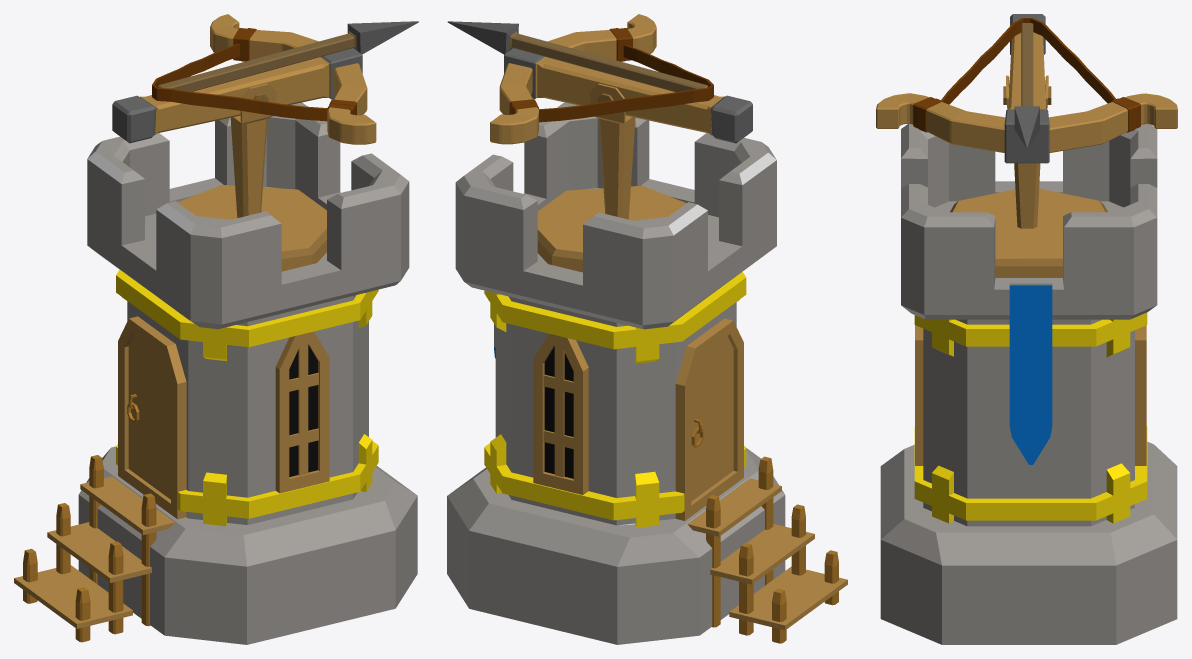
File: TowerAtest.fbx
The picture shows the model from 3 angles, left to right: view 1: azimuth 30°, elevation 25°; view 2: azimuth 150°, elevation 25°; view 3: azimuth 270°, elevation 25°; orthographic projection.
Visible parts, largest first — view 1: Tower, Crossbow, Crossbow.001, Arrow, Bow, Rope; view 2: Tower, Crossbow, Crossbow.001, Arrow, Bow, Rope; view 3: Tower, Crossbow, Crossbow.001, Bow, Arrow, Rope.
Boxes of the visible parts, box(x1,y1,x2,y2) form: Tower: box(14, 102, 417, 644); Crossbow: box(112, 14, 376, 144); Crossbow.001: box(178, 83, 326, 271); Arrow: box(157, 21, 418, 91); Bow: box(152, 44, 327, 121); Rope: box(233, 28, 356, 115); Tower: box(447, 102, 847, 644); Crossbow: box(490, 14, 752, 144); Crossbow.001: box(537, 83, 686, 272); Arrow: box(447, 21, 708, 92); Bow: box(539, 45, 713, 122); Rope: box(509, 28, 632, 114); Tower: box(880, 124, 1177, 644); Crossbow: box(876, 14, 1177, 163); Crossbow.001: box(950, 75, 1107, 277); Bow: box(941, 18, 1115, 104); Arrow: box(1014, 23, 1039, 148); Rope: box(913, 97, 1140, 132).
Size of the model in its own units: 411 by 550 by 285.
